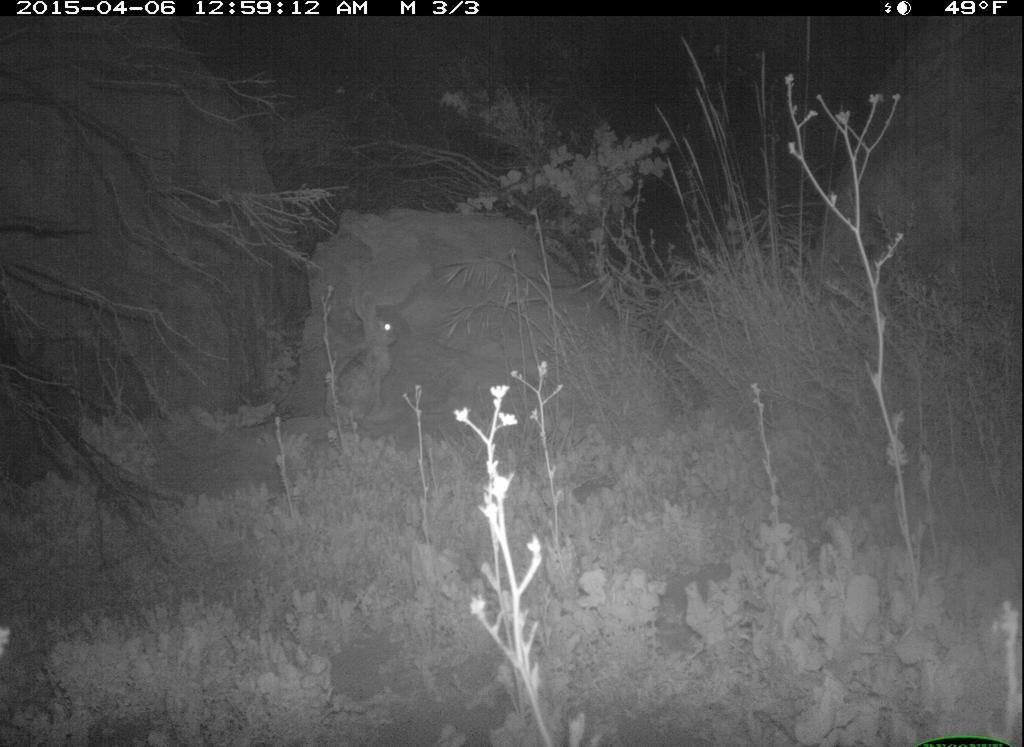rabbit: (327, 278, 408, 436)
